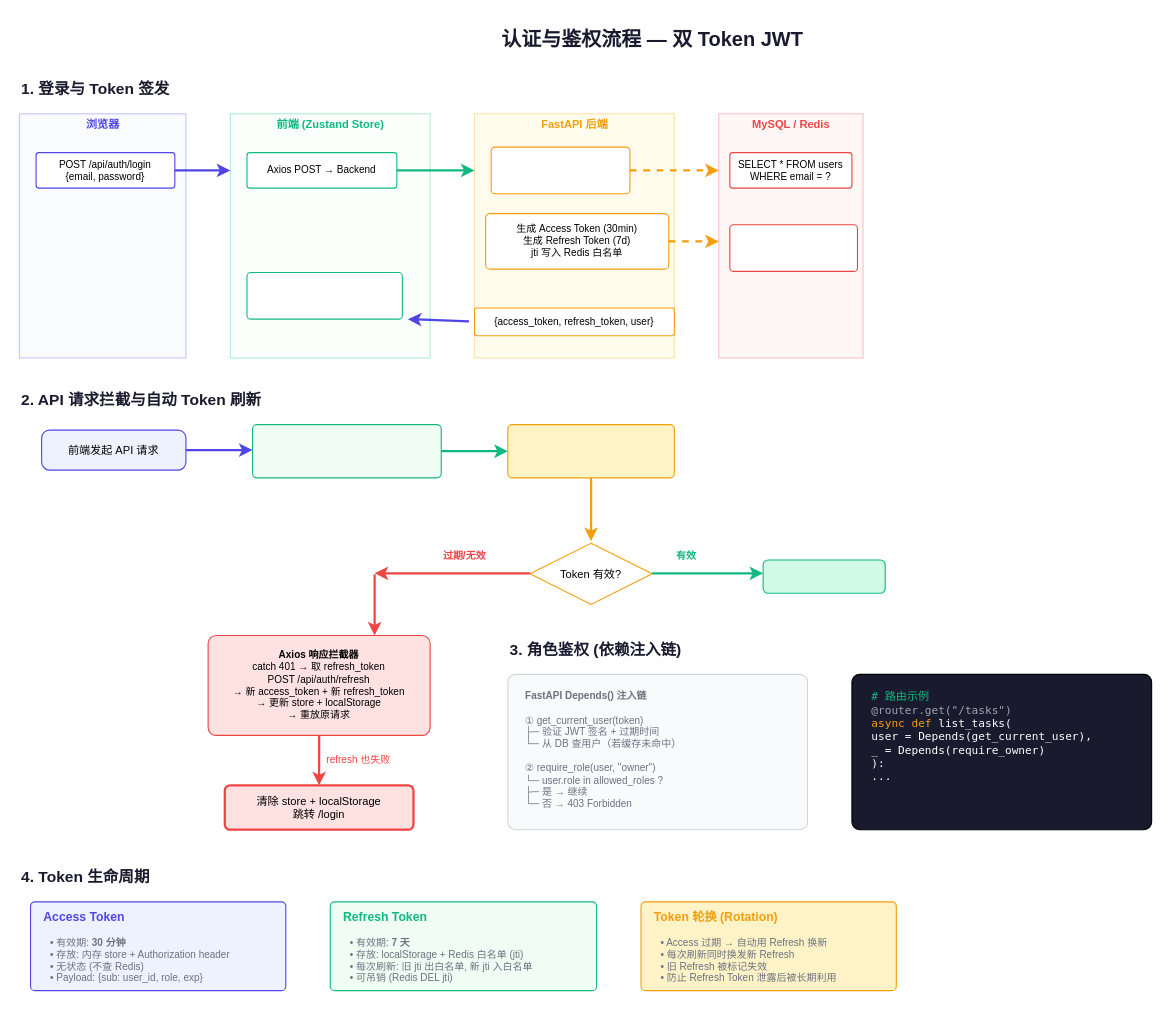
The diagram is 1171 pixels wide and 1010 high, and some of its shapes have lost their labels. Each missing label, with the box of its shape:
Axios 请求拦截器 从 store 取 access_token 附加 Authorization: Bearer xxx: (251, 423, 441, 478)
FastAPI 验证 Token → get_current_user() → 角色依赖注入: (507, 423, 674, 478)
Redis: SET refresh:{jti} = user_id EX 604800: (729, 224, 857, 271)
Zustand store setTokens() localStorage 持久化: (246, 271, 402, 319)
返回业务数据: (762, 559, 885, 593)
验证密码 (bcrypt) 查询 User: (490, 146, 630, 194)
